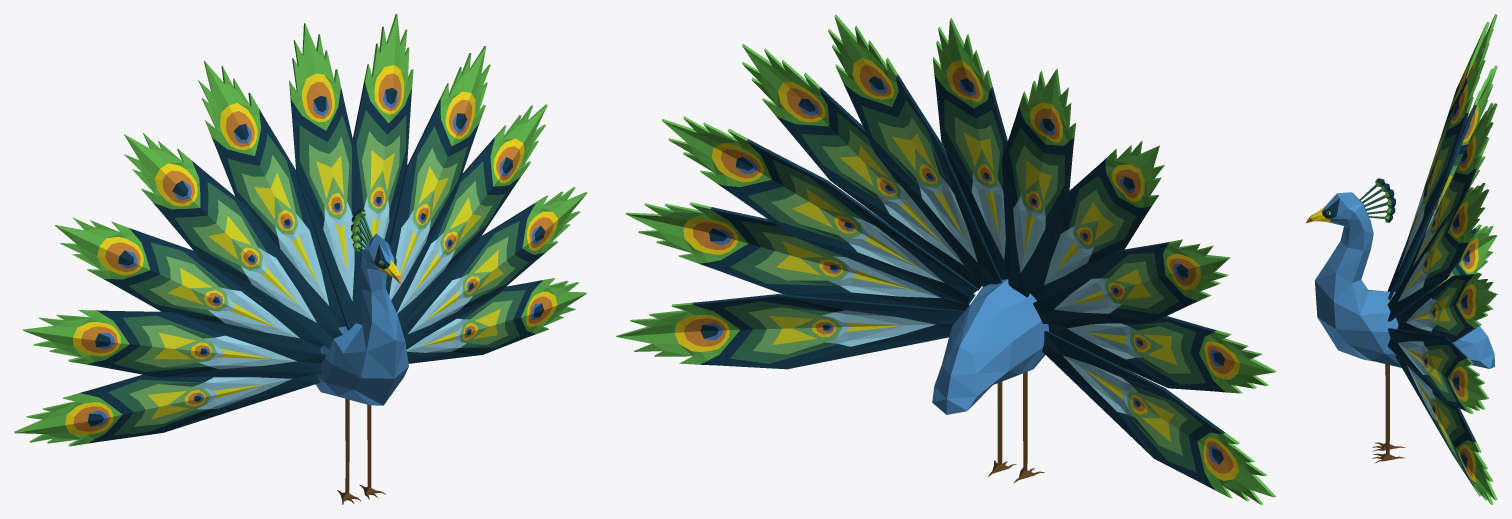
File: delh_anim_02.fbx
The picture shows the model from 3 angles, left to right: view 1: azimuth 30°, elevation 25°; view 2: azimuth 150°, elevation 25°; view 3: azimuth 270°, elevation 25°; orthographic projection. The views are drawn at different scales.
Visible parts, largest first — view 1: delh_anim_02; view 2: delh_anim_02; view 3: delh_anim_02.
Part boxes in pixels (x1,y1,x2,y2): delh_anim_02: [14, 14, 587, 504]; delh_anim_02: [616, 14, 1276, 504]; delh_anim_02: [1305, 14, 1497, 504].
Size of the model in its own units: 136 by 98.15 by 41.65.
